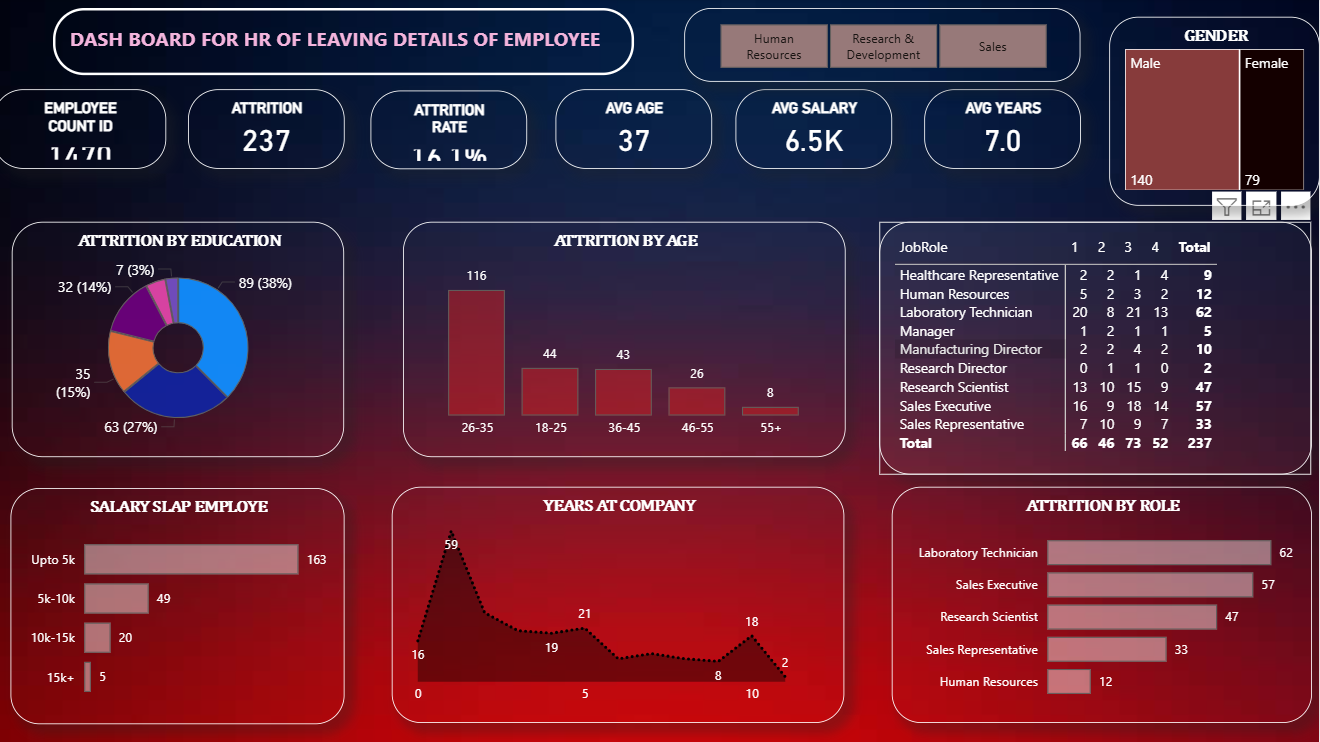

The dashboard page shown, as its layout file describes it:
{"tool":"powerbi","page":{"name":"Page 1","canvas":[1280,720],"ordinal":0},"visuals":[{"type":"card","title":"EMPLOYEE COUNT ID","fields":{"Values":["CountNonNull(HR_Analytics.EmpID)"]},"box":[0,87.8,167.4,76.8],"z":0},{"type":"card","title":"ATTRITION","fields":{"Values":["Sum(HR_Analytics.AttritionCount)"]},"box":[188,87.8,150.9,76.8],"z":1},{"type":"card","title":"ATTRITION RATE","fields":{"Values":["HR_Analytics.AttritionRtae"]},"box":[364.3,89.3,150.8,76],"z":2},{"type":"card","title":"AVG AGE","fields":{"Values":["Avg(HR_Analytics.Age)"]},"box":[543.4,87.8,150.9,76.8],"z":3},{"type":"card","title":"AVG SALARY","fields":{"Values":["Avg(HR_Analytics.MonthlyIncome)"]},"box":[716.3,87.8,150.9,76.8],"z":4},{"type":"donutChart","title":"ATTRITION BY EDUCATION","fields":{"Category":["HR_Analytics.EducationField"],"Y":["Sum(HR_Analytics.AttritionCount)"]},"box":[18.1,216,320.9,226.8],"z":6},{"type":"clusteredColumnChart","title":"ATTRITION BY AGE","fields":{"Category":["HR_Analytics.AgeGroup"],"Y":["Sum(HR_Analytics.AttritionCount)"]},"box":[395.7,216,427.1,226.8],"z":7},{"type":"pivotTable","fields":{"Rows":["HR_Analytics.JobRole"],"Columns":["HR_Analytics.JobSatisfaction"],"Values":["Sum(HR_Analytics.AttritionCount)"]},"box":[855.4,216,417.4,243.7],"z":8},{"type":"barChart","title":"SALARY SLAP EMPLOYE","fields":{"Category":["HR_Analytics.SalarySlab"],"Y":["Sum(HR_Analytics.AttritionCount)"]},"box":[16.9,472.9,322.1,228],"z":9},{"type":"barChart","title":"ATTRITION BY ROLE","fields":{"Category":["HR_Analytics.JobRole"],"Y":["Sum(HR_Analytics.AttritionCount)"]},"box":[867.4,471.7,405.4,228],"z":10},{"type":"areaChart","title":"YEARS AT COMPANY","fields":{"Category":["HR_Analytics.YearsAtCompany"],"Y":["Sum(HR_Analytics.AttritionCount)"]},"box":[384.9,471.7,436.7,228],"z":11},{"type":"card","title":"AVG YEARS","fields":{"Values":["Avg(HR_Analytics.YearsAtCompany)"]},"box":[898.8,87.8,150.9,76.8],"z":13},{"type":"treemap","title":"GENDER","fields":{"Values":["Sum(HR_Analytics.AttritionCount)"],"Group":["HR_Analytics.Gender"]},"box":[1077.2,17.8,203.1,182.5],"z":14},{"type":"slicer","fields":{"Values":["HR_Analytics.Department"]},"box":[667.2,9.7,382.4,71.2],"z":15},{"type":"textbox","box":[57.9,9.7,561,65.1],"z":16}]}

Visuals, with their boxes in screenshot pixels (x1, y1, x2, y2), scaled from the page's 1280x720 canvas onto the 1320x742 screenshot:
"EMPLOYEE COUNT ID" card: [0,90,173,170]
"ATTRITION" card: [194,90,349,170]
"ATTRITION RATE" card: [376,92,531,170]
"AVG AGE" card: [560,90,716,170]
"AVG SALARY" card: [739,90,894,170]
"ATTRITION BY EDUCATION" donutChart: [19,223,350,456]
"ATTRITION BY AGE" clusteredColumnChart: [408,223,849,456]
pivotTable - HR_Analytics.JobRole x HR_Analytics.JobSatisfaction: [882,223,1313,474]
"SALARY SLAP EMPLOYE" barChart: [17,487,350,722]
"ATTRITION BY ROLE" barChart: [895,486,1313,721]
"YEARS AT COMPANY" areaChart: [397,486,847,721]
"AVG YEARS" card: [927,90,1083,170]
"GENDER" treemap: [1111,18,1319,206]
slicer - HR_Analytics.Department: [688,10,1082,83]
textbox: [60,10,638,77]
